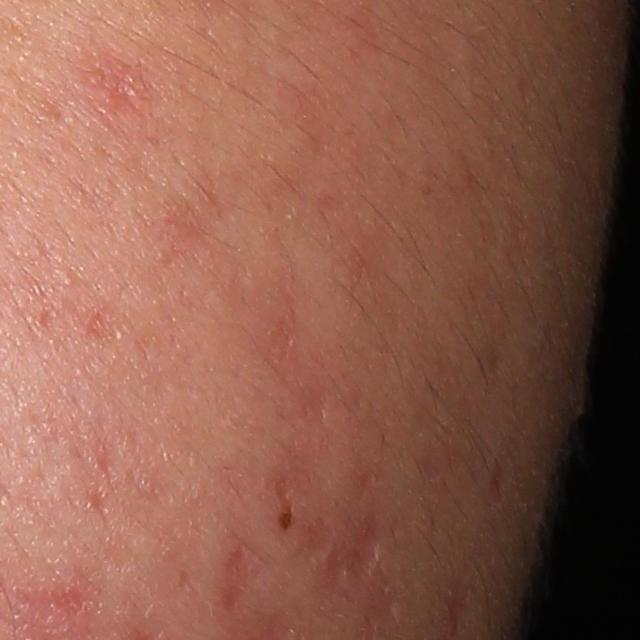atrophic_scar: (317, 509, 388, 601)
nevus: (275, 507, 294, 534)
